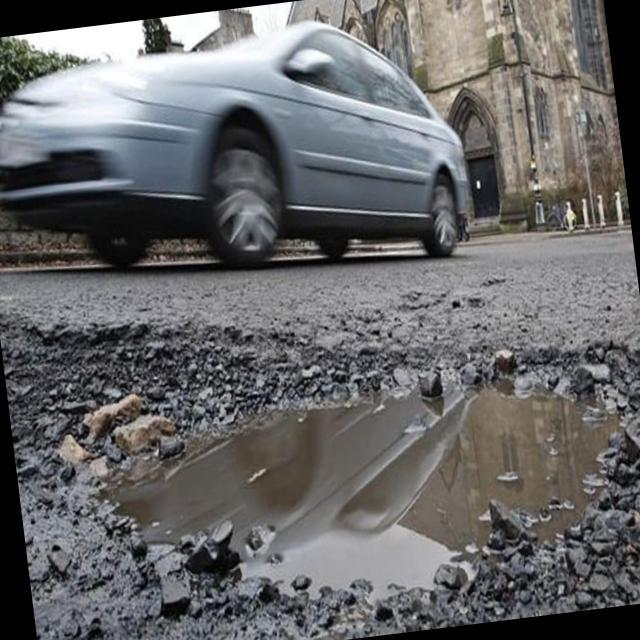Pothole: (28, 241, 640, 640)
